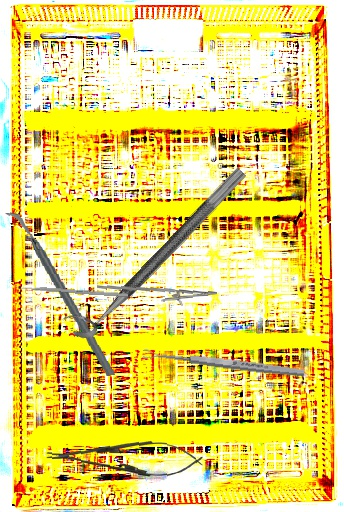Chopper: (2, 201, 118, 387)
Fixation Ring: (60, 153, 248, 346)
Needle Holder: (44, 436, 204, 479), (97, 276, 218, 313)
Pusher: (8, 284, 128, 298)
Surgical Spoon: (142, 347, 305, 379)
